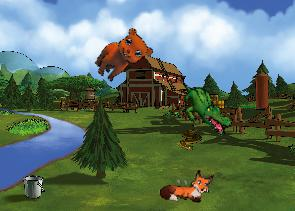bear: (89, 22, 157, 92)
crocodile: (170, 80, 239, 137)
fox: (159, 165, 214, 206)
